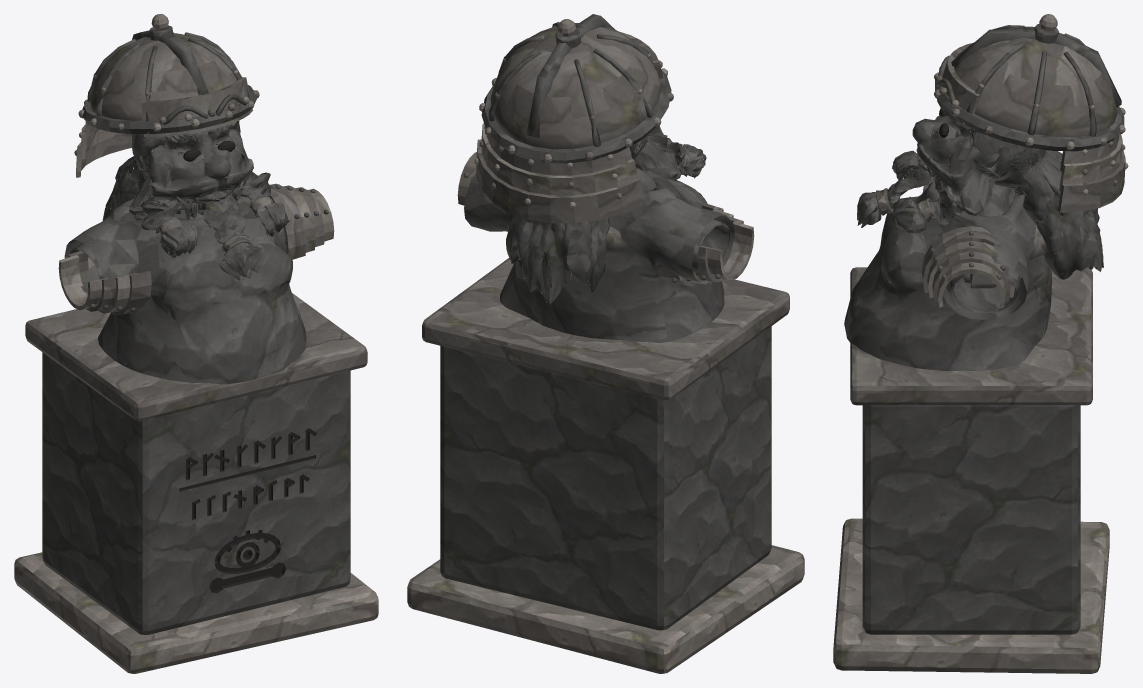
Rendered from vo_orrin_bust.glb.
The picture shows the model from 3 angles, left to right: view 1: azimuth 30°, elevation 25°; view 2: azimuth 150°, elevation 25°; view 3: azimuth 270°, elevation 25°; orthographic projection. The views are drawn at different scales.
Parts seen in each view (by area): view 1: model; view 2: model; view 3: model.
Part boxes in pixels (x1,y1,x2,y2): model: (14,14,378,673); model: (407,14,804,673); model: (833,14,1128,673).
Size of the model in its own units: 0.7435 by 1.57 by 0.7046.
4 materials, 3 textured.
